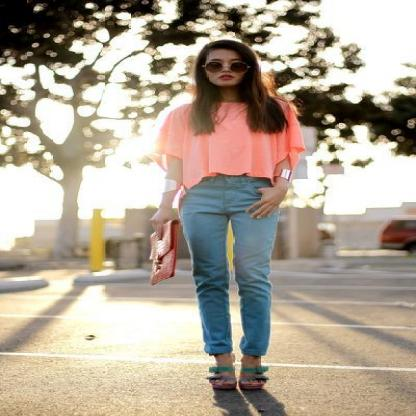bag: (147, 219, 191, 284)
pants: (179, 173, 277, 357)
shirt: (158, 91, 304, 181)
shoe: (206, 374, 236, 388)
